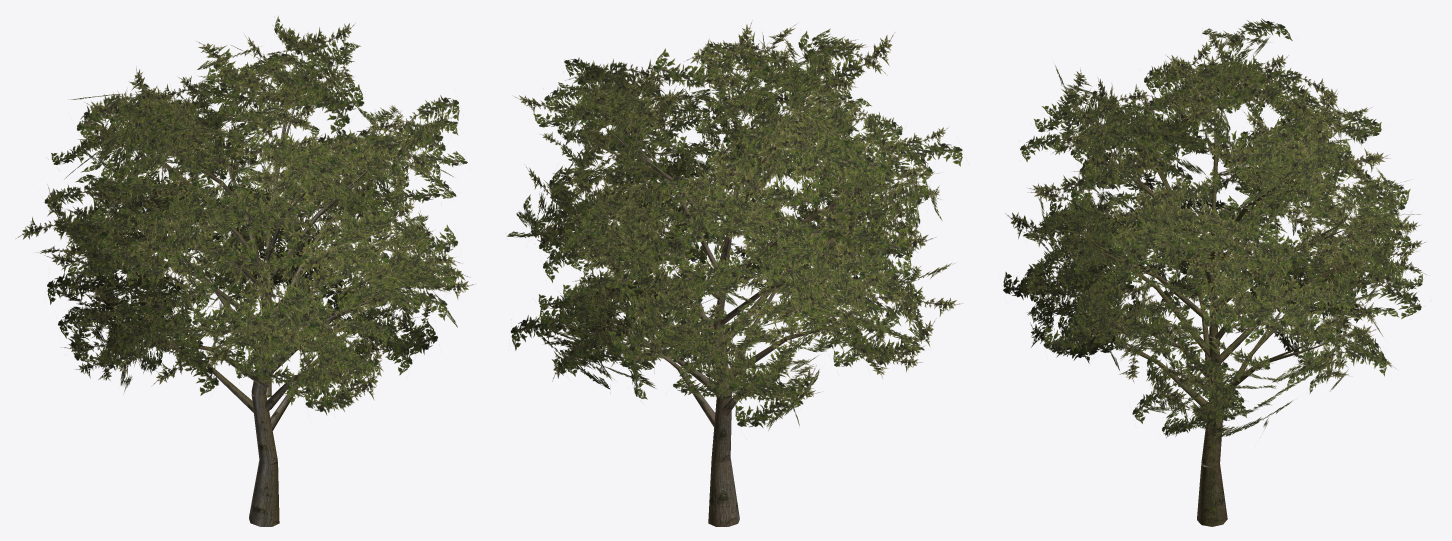
The model's file is garda_broadleaf.glb.
The picture shows the model from 3 angles, left to right: view 1: azimuth 30°, elevation 25°; view 2: azimuth 150°, elevation 25°; view 3: azimuth 270°, elevation 25°; orthographic projection. The views are drawn at different scales.
Visible parts, largest first — view 1: GardaTree_LOD0; view 2: GardaTree_LOD0; view 3: GardaTree_LOD0.
Part boxes in pixels (x1,y1,x2,y2): GardaTree_LOD0: (16, 16, 474, 526); GardaTree_LOD0: (507, 20, 963, 526); GardaTree_LOD0: (1003, 18, 1426, 526).
Size of what is drawn, in the model's own units: 13.25 by 15.94 by 13.65.
1 material, 1 textured.
